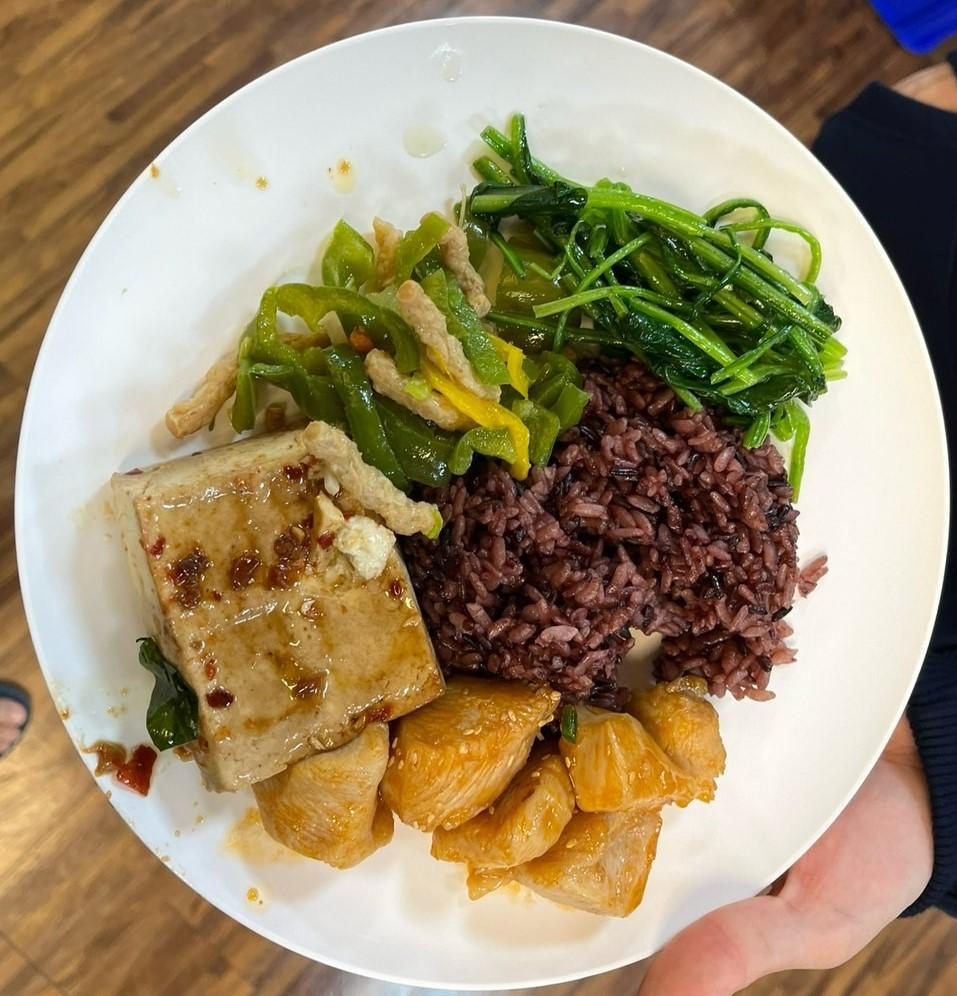big fried chicken leg: (18, 4, 957, 992)
braised fish: (419, 374, 800, 692)
braised fish fillet: (151, 210, 584, 497), (108, 428, 449, 791), (466, 124, 849, 446)
braised pork: (251, 678, 730, 927)
